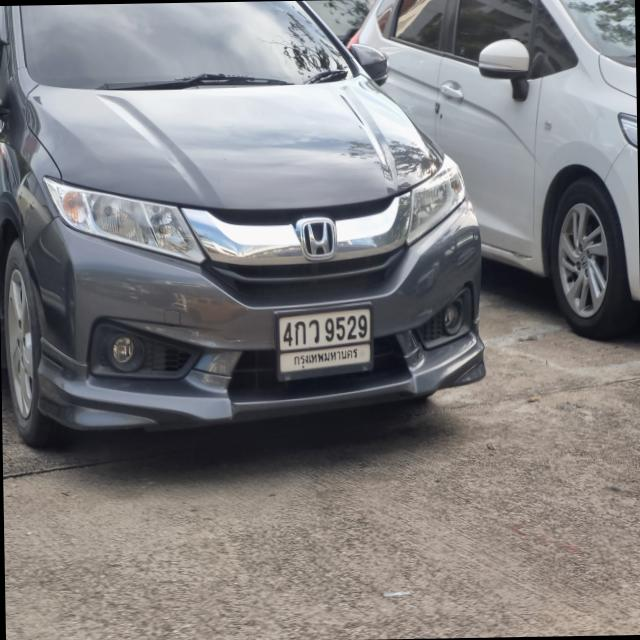license_plate: (270, 298, 376, 384)
